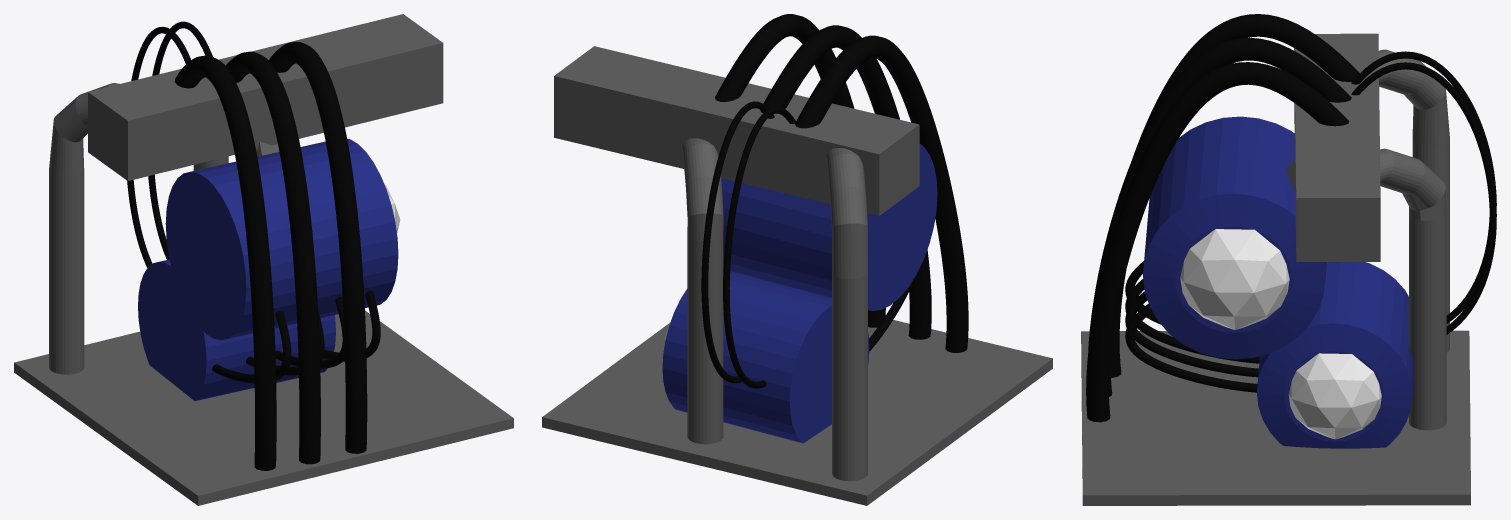
Rendered from PowerGenlevel7.fbx.
The picture shows the model from 3 angles, left to right: view 1: azimuth 30°, elevation 25°; view 2: azimuth 150°, elevation 25°; view 3: azimuth 270°, elevation 25°; orthographic projection. The views are drawn at different scales.
Visible parts, largest first — view 1: Cube, Cube.001, Cylinder.001, NurbsPath.002, NurbsPath, Cylinder, NurbsPath.001, NurbsPath.007, NurbsPath.008, NurbsPath.005, NurbsPath.006, NurbsPath.003; view 2: Cube, Cube.001, Cylinder, Cylinder.001, NurbsPath.002, NurbsPath.001, NurbsPath, NurbsPath.007, NurbsPath.008, NurbsPath.005; view 3: Cube, Cylinder.001, Cylinder, Cube.001, NurbsPath, NurbsPath.001, NurbsPath.002, NurbsPath.008, NurbsPath.007, NurbsPath.006, NurbsPath.003, NurbsPath.004.
Boxes of the visible parts, <box> form: Cube: <box>14,83,513,505</box>; Cube.001: <box>88,14,443,180</box>; Cylinder.001: <box>165,138,400,340</box>; NurbsPath.002: <box>174,55,276,470</box>; NurbsPath: <box>268,41,367,453</box>; Cylinder: <box>138,259,335,400</box>; NurbsPath.001: <box>225,51,320,464</box>; NurbsPath.007: <box>127,26,190,267</box>; NurbsPath.008: <box>148,21,212,259</box>; NurbsPath.005: <box>212,311,291,383</box>; NurbsPath.006: <box>323,290,380,361</box>; NurbsPath.003: <box>275,296,344,368</box>; Cube: <box>542,138,1052,505</box>; Cube.001: <box>554,46,919,215</box>; Cylinder: <box>662,271,869,443</box>; Cylinder.001: <box>721,144,937,311</box>; NurbsPath.002: <box>795,35,968,352</box>; NurbsPath.001: <box>760,25,931,339</box>; NurbsPath: <box>715,14,885,327</box>; NurbsPath.007: <box>723,106,795,388</box>; NurbsPath.008: <box>701,101,774,383</box>; NurbsPath.005: <box>869,277,914,351</box>; Cube: <box>1081,49,1470,505</box>; Cylinder.001: <box>1143,116,1326,359</box>; Cylinder: <box>1257,262,1414,448</box>; Cube.001: <box>1294,33,1380,261</box>; NurbsPath: <box>1086,62,1349,422</box>; NurbsPath.001: <box>1088,37,1351,396</box>; NurbsPath.002: <box>1110,14,1359,377</box>; NurbsPath.008: <box>1351,62,1496,334</box>; NurbsPath.007: <box>1351,51,1496,323</box>; NurbsPath.006: <box>1125,304,1257,392</box>; NurbsPath.003: <box>1125,291,1258,377</box>; NurbsPath.004: <box>1125,279,1259,363</box>.
Bounding box in the file's own units: 1.95 × 1.95 × 1.9.
